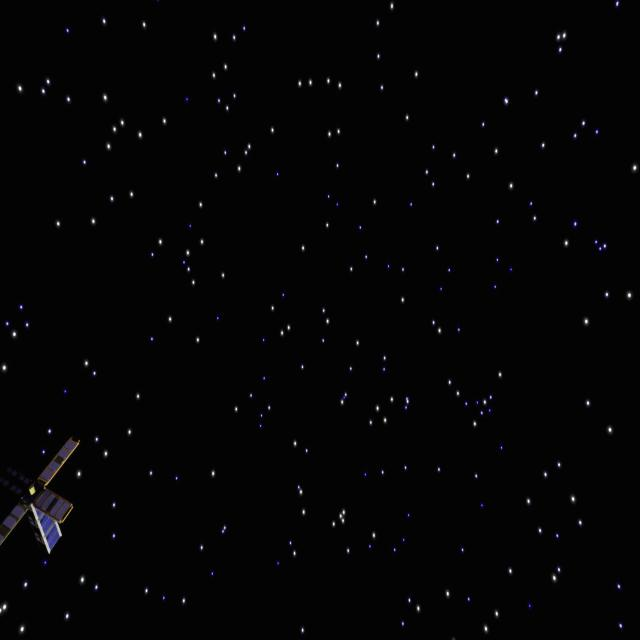satellite: (0, 428, 84, 563)
